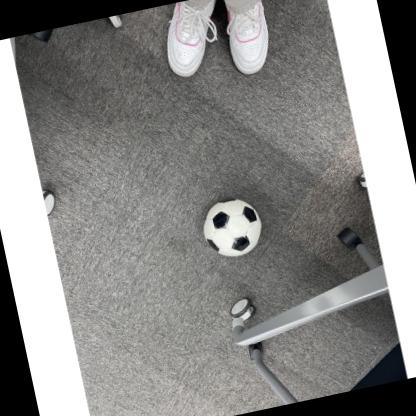ball: (195, 192, 270, 264)
